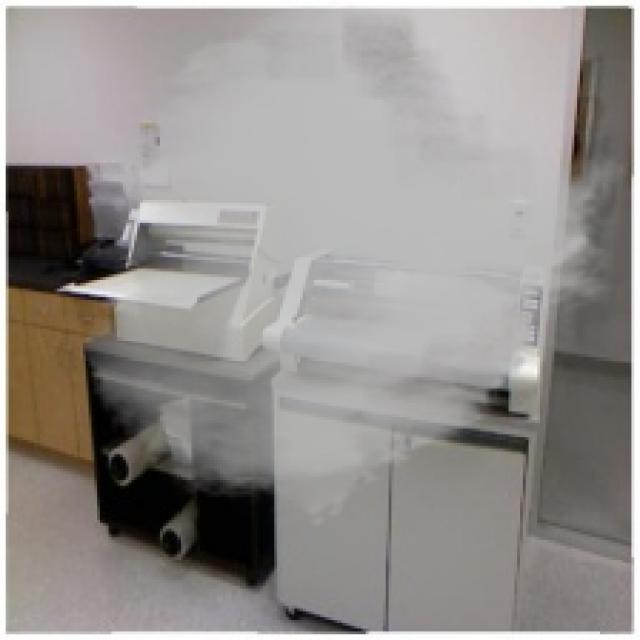smoke: (80, 0, 629, 529)
